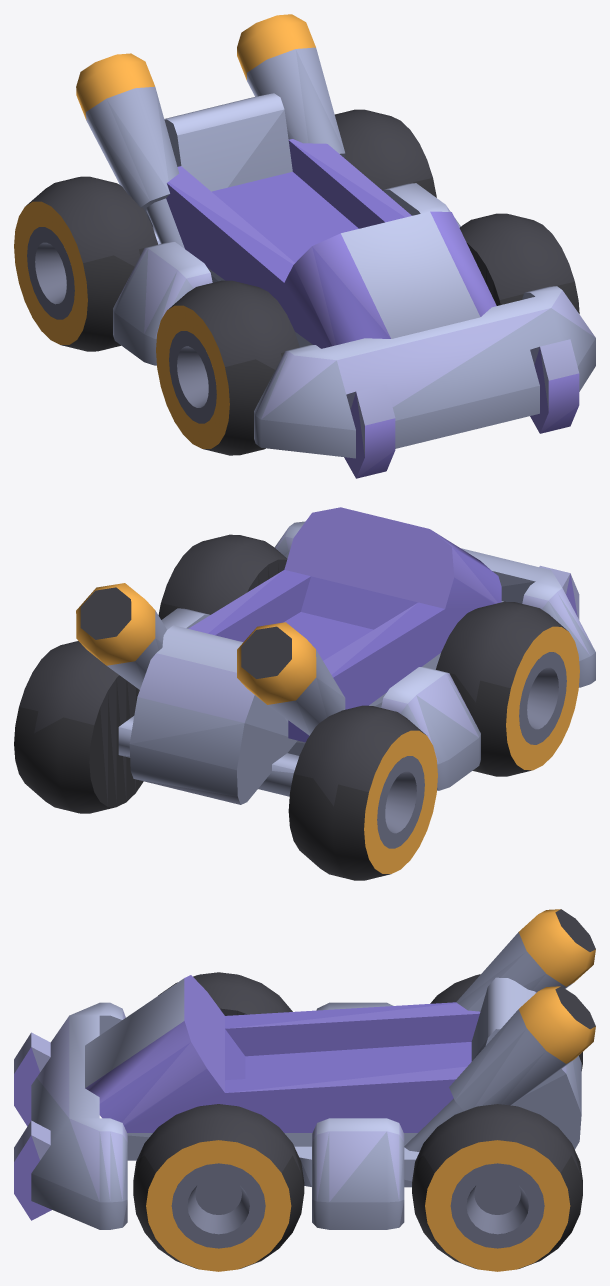
3 renders of one model, top to bottom at view 1: azimuth 30°, elevation 25°; view 2: azimuth 150°, elevation 25°; view 3: azimuth 270°, elevation 25°, orthographic.
Parts seen in each view (by area): view 1: Scene, wheel-back-right, wheel-front-right, wheel-front-left, wheel-back-left; view 2: Scene, wheel-back-right, wheel-front-right, wheel-back-left, wheel-front-left; view 3: Scene, wheel-front-left, wheel-back-left, wheel-front-right, wheel-back-right.
Part boxes in pixels (x1,y1,x2,y2): Scene: (76, 14, 595, 478); wheel-back-right: (14, 176, 157, 351); wheel-front-right: (156, 280, 299, 455); wheel-front-left: (459, 213, 579, 313); wheel-back-left: (335, 109, 436, 197); Scene: (76, 507, 595, 804); wheel-back-right: (288, 705, 437, 880); wheel-front-right: (436, 601, 579, 776); wheel-back-left: (14, 641, 143, 813); wheel-front-left: (158, 534, 287, 619); Scene: (14, 909, 595, 1229); wheel-front-left: (133, 1104, 304, 1271); wheel-back-left: (412, 1104, 582, 1271); wheel-front-right: (158, 972, 292, 1015); wheel-back-right: (430, 974, 582, 1070).
Bounding box in the file's own units: 1.09 × 0.75 × 1.59.
